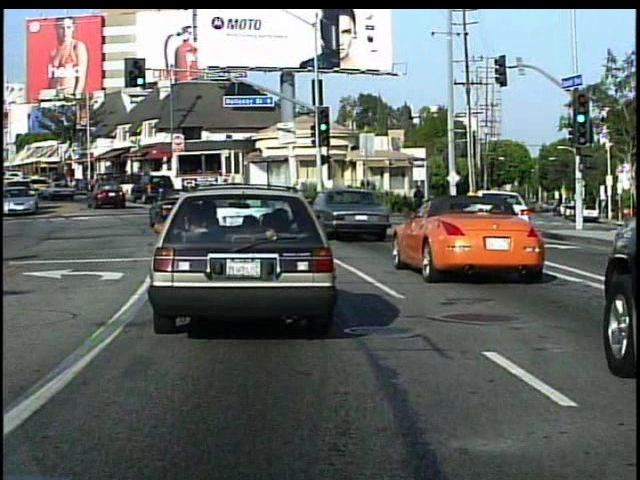person: (461, 186, 480, 225), (411, 182, 429, 223)
